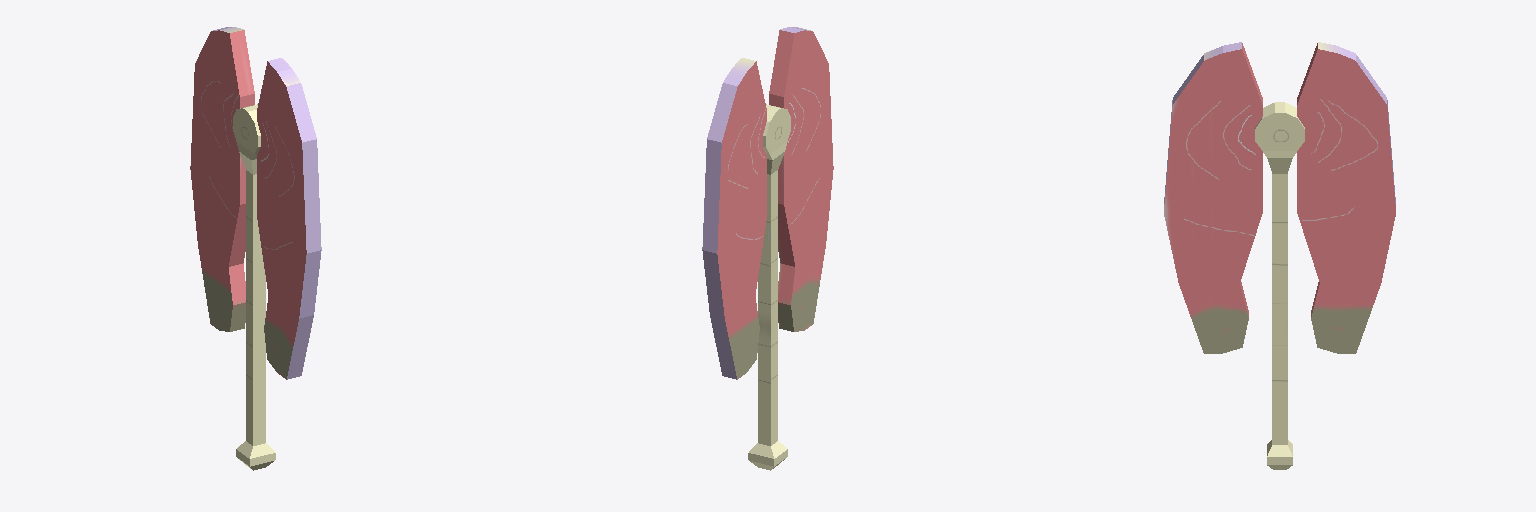
The picture shows the model from 3 angles: view 1: azimuth 30°, elevation 25°; view 2: azimuth 150°, elevation 25°; view 3: azimuth 270°, elevation 25°; orthographic projection.
Visible parts, largest first — view 1: Cube; view 2: Cube; view 3: Cube.
Boxes of the visible parts, x1=… form: Cube: x1=190, y1=27, x2=321, y2=470; Cube: x1=702, y1=27, x2=833, y2=470; Cube: x1=1164, y1=42, x2=1395, y2=469.
Bounding box in the file's own units: 0.3165 × 4.88 × 2.44.
Materials: 1 (1 with a texture image).